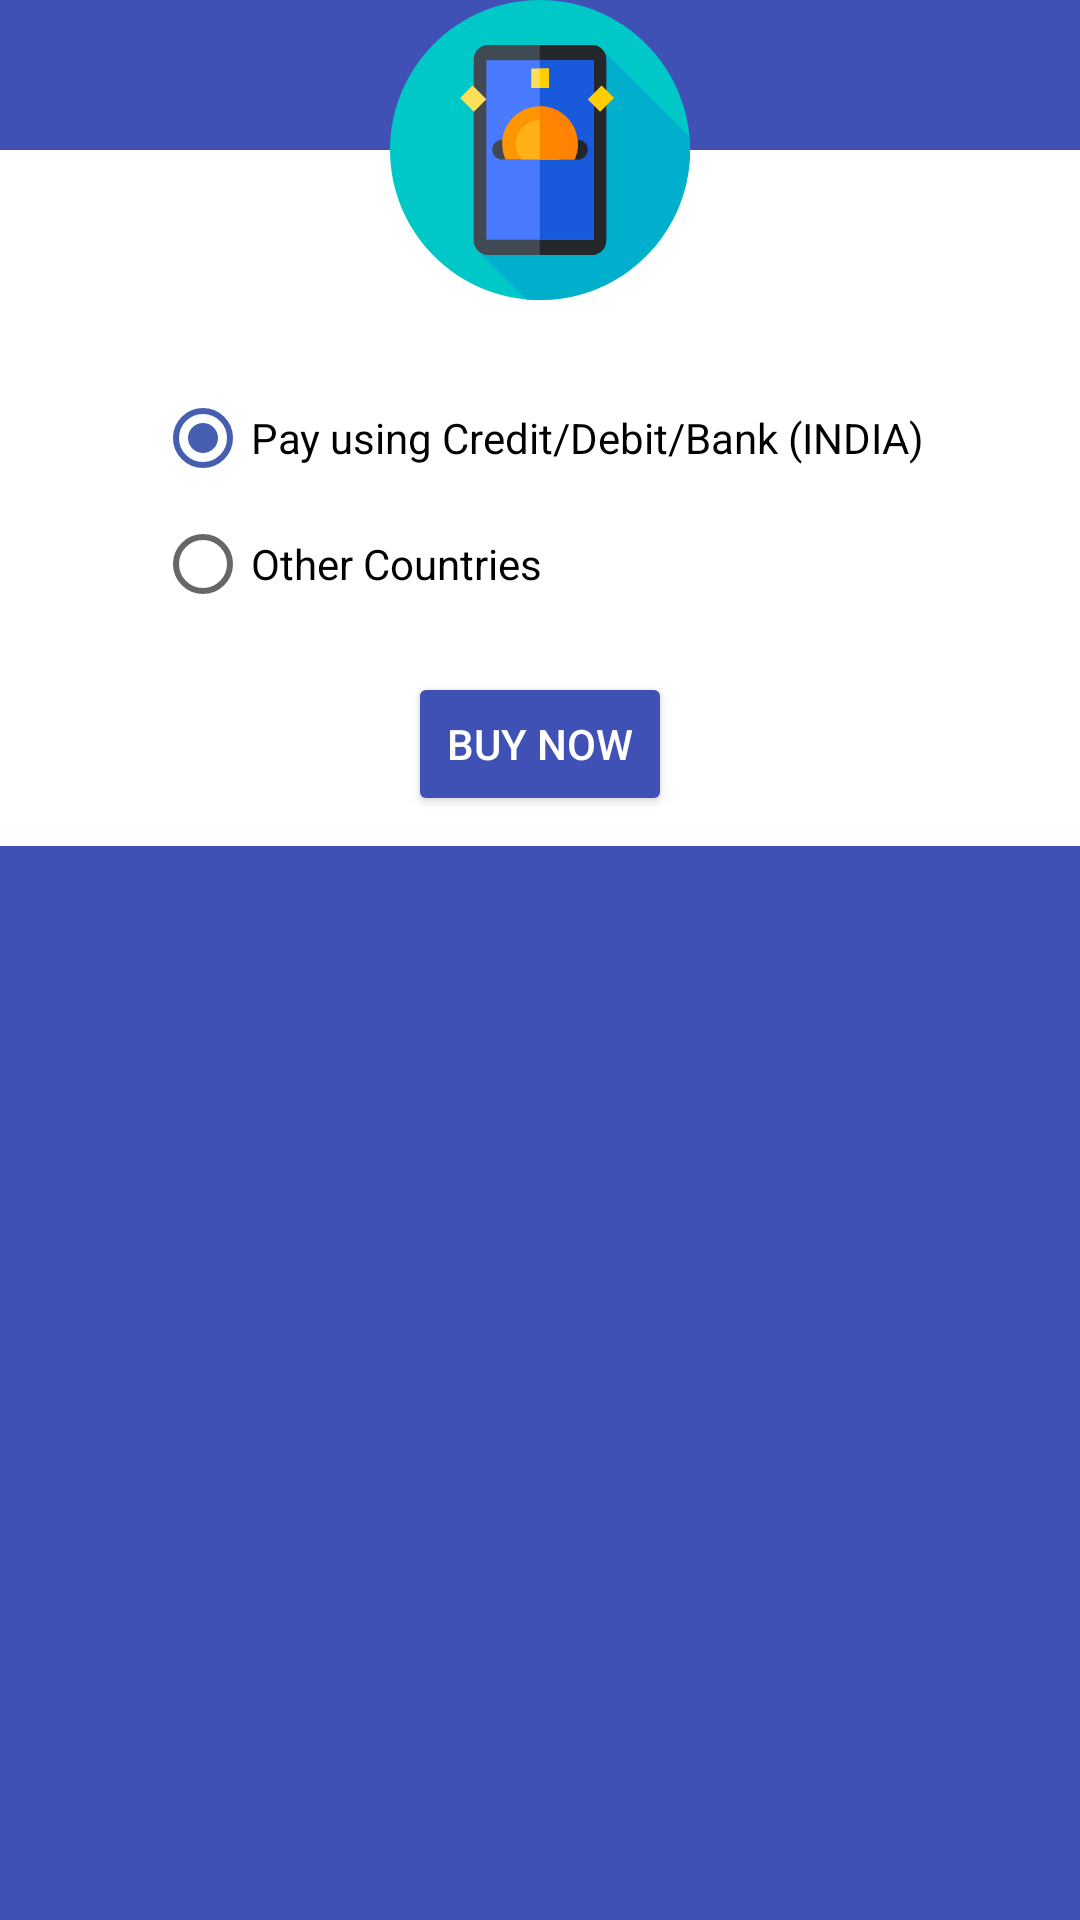

Point at icon controls on the screen. Image size 1080 x 1920, points as [x,y].
roundsmartphone: [540,150]
